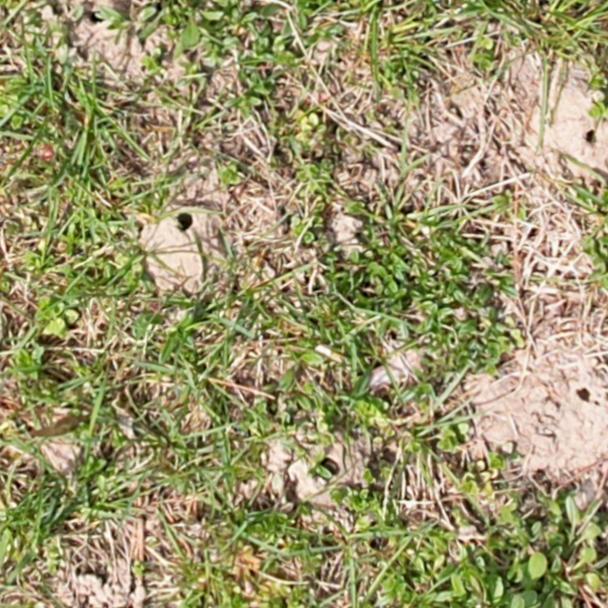nest: (518, 348, 608, 472), (139, 198, 232, 281), (545, 100, 608, 182)
